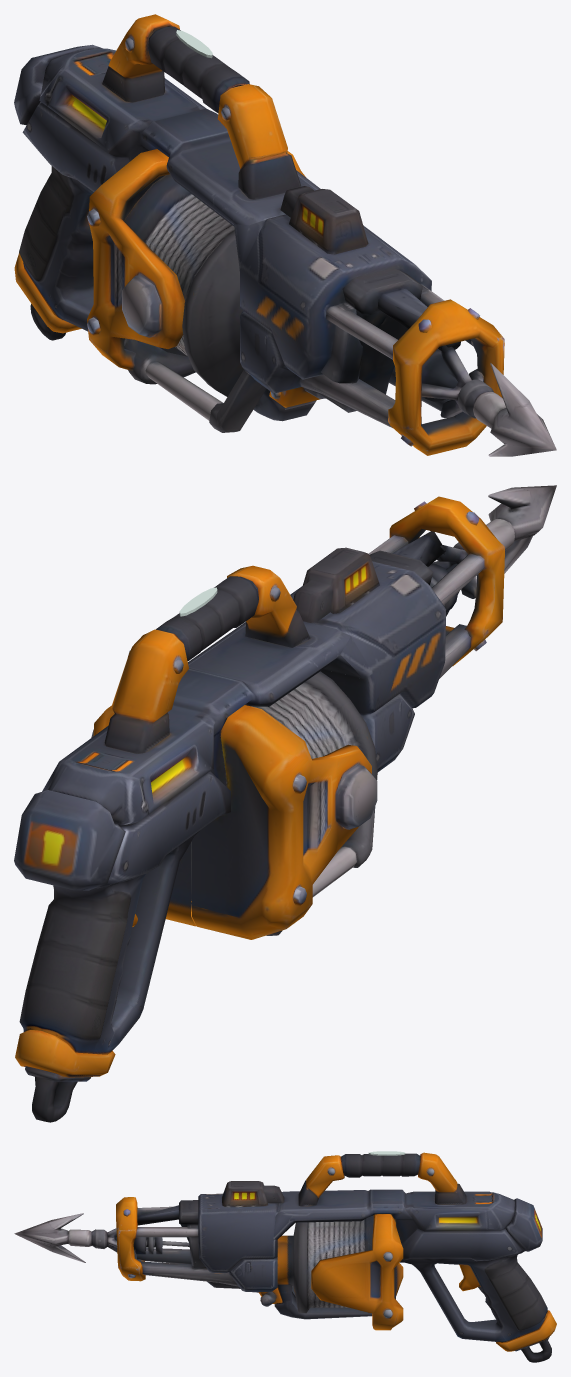
File: ExpeditionHarpoon.fbx
The picture shows the model from 3 angles, top to bottom: view 1: azimuth 30°, elevation 25°; view 2: azimuth 150°, elevation 25°; view 3: azimuth 270°, elevation 25°; orthographic projection. The views are drawn at different scales.
Visible parts, largest first — view 1: tripo_part_0, tripo_part_10, tripo_part_2, tripo_part_8, tripo_part_1, tripo_part_12, tripo_part_16, tripo_part_13, tripo_part_5, tripo_part_11, tripo_part_20, tripo_part_26 (+14 smaller); view 2: tripo_part_0, tripo_part_8, tripo_part_10, tripo_part_19, tripo_part_11, tripo_part_1, tripo_part_2, tripo_part_13, tripo_part_5, tripo_part_12, tripo_part_14, tripo_part_20 (+9 smaller); view 3: tripo_part_0, tripo_part_10, tripo_part_9, tripo_part_2, tripo_part_5, tripo_part_1, tripo_part_11, tripo_part_13, tripo_part_20, tripo_part_19, tripo_part_12, tripo_part_27 (+11 smaller).
Boxes of the visible parts, x1,y1,x2,y2 form: tripo_part_0: (19, 48, 320, 331); tripo_part_10: (234, 214, 431, 392); tripo_part_2: (124, 174, 259, 404); tripo_part_8: (87, 149, 185, 371); tripo_part_1: (388, 299, 504, 455); tripo_part_12: (217, 84, 300, 199); tripo_part_16: (304, 268, 422, 412); tripo_part_13: (280, 186, 368, 254); tripo_part_5: (148, 26, 249, 112); tripo_part_11: (102, 14, 179, 102); tripo_part_20: (488, 363, 556, 456); tripo_part_26: (299, 374, 421, 427); tripo_part_0: (19, 621, 362, 1054); tripo_part_8: (191, 705, 371, 939); tripo_part_10: (290, 561, 445, 772); tripo_part_19: (14, 790, 125, 890); tripo_part_11: (104, 629, 188, 753); tripo_part_1: (389, 496, 504, 666); tripo_part_2: (191, 671, 377, 902); tripo_part_13: (293, 547, 379, 622); tripo_part_5: (156, 576, 258, 660); tripo_part_12: (227, 565, 310, 647); tripo_part_14: (15, 1030, 115, 1077); tripo_part_20: (488, 485, 556, 573); tripo_part_0: (273, 1189, 547, 1342); tripo_part_10: (198, 1193, 279, 1291); tripo_part_9: (311, 1214, 403, 1330); tripo_part_2: (277, 1216, 373, 1313); tripo_part_5: (340, 1153, 420, 1177); tripo_part_1: (116, 1197, 145, 1281); tripo_part_11: (418, 1152, 466, 1204); tripo_part_13: (222, 1181, 284, 1207); tripo_part_20: (14, 1213, 85, 1262); tripo_part_19: (505, 1198, 542, 1251); tripo_part_12: (298, 1155, 344, 1206); tripo_part_27: (140, 1261, 238, 1286).
Size of the model in its own units: 0.159 by 0.289 by 0.6797.
Materials: 1 (1 with a texture image).
